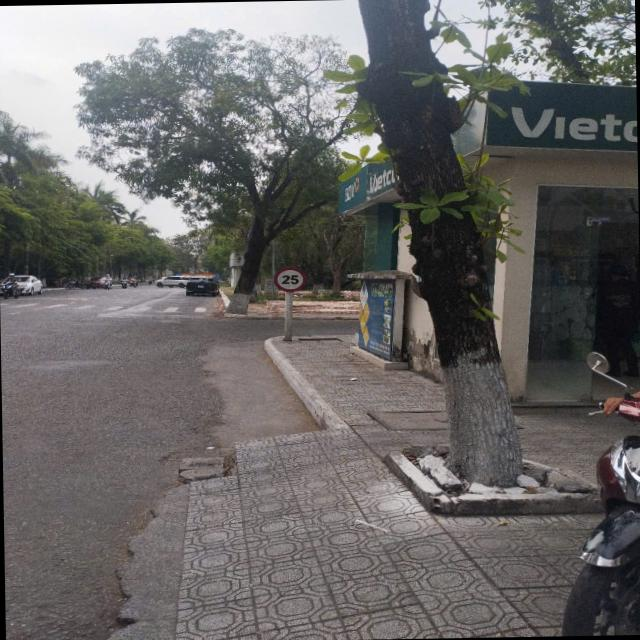Tre_Em: (274, 266, 308, 294)
